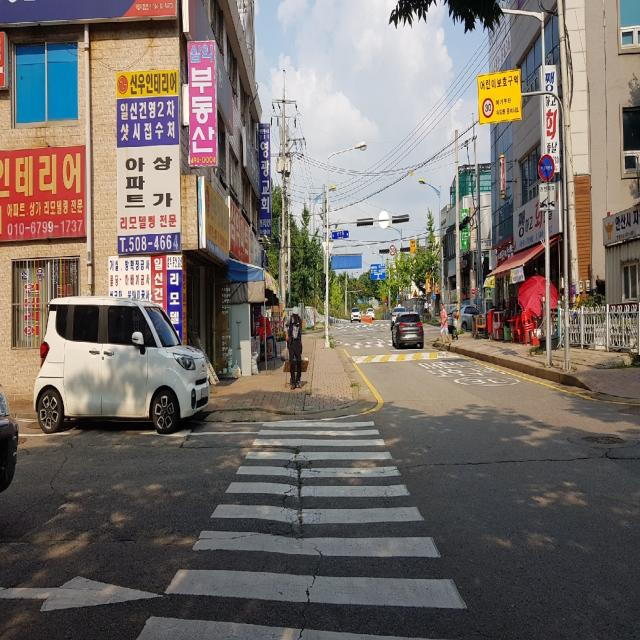횡단보도: (137, 418, 468, 640)
